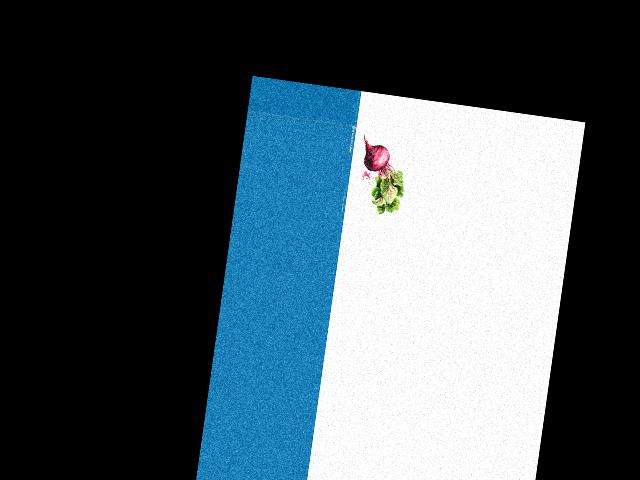beet: (353, 135, 410, 217)
